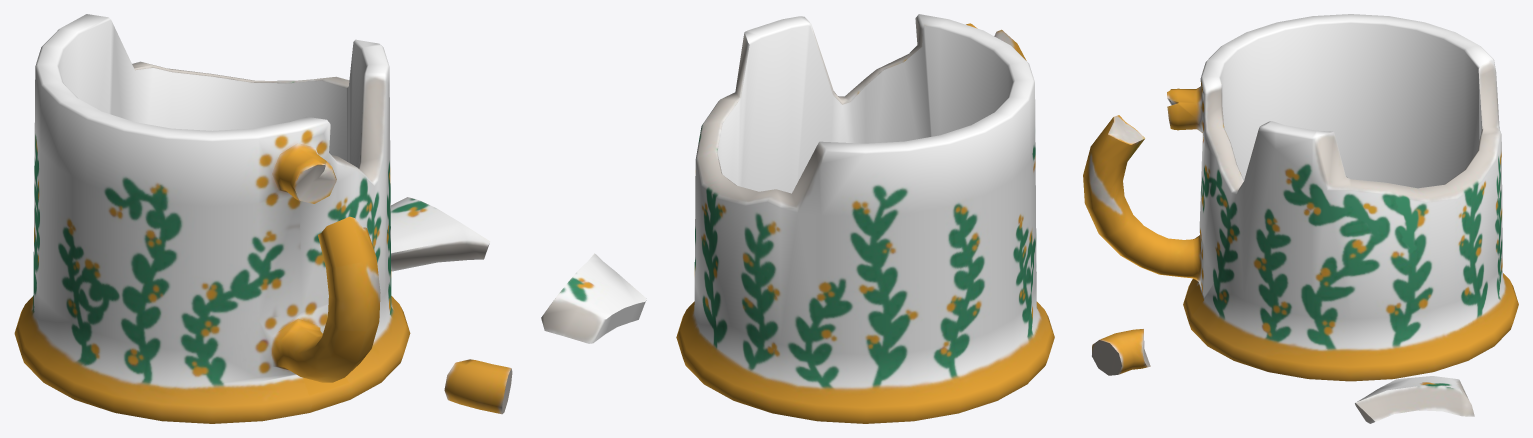
File: mug.fbx
3 renders of one model, left to right at view 1: azimuth 30°, elevation 25°; view 2: azimuth 150°, elevation 25°; view 3: azimuth 270°, elevation 25°, orthographic. The views are drawn at different scales.
Visible parts, largest first — view 1: Combined; view 2: Combined; view 3: Combined.
Boxes of the visible parts, left/top/right/bottom form: Combined: left=14, top=14, right=512, bottom=423; Combined: left=541, top=14, right=1054, bottom=423; Combined: left=1083, top=14, right=1518, bottom=423.
Size of the model in its own units: 45.71 by 26.57 by 44.21.
Materials: 1 (1 with a texture image).
